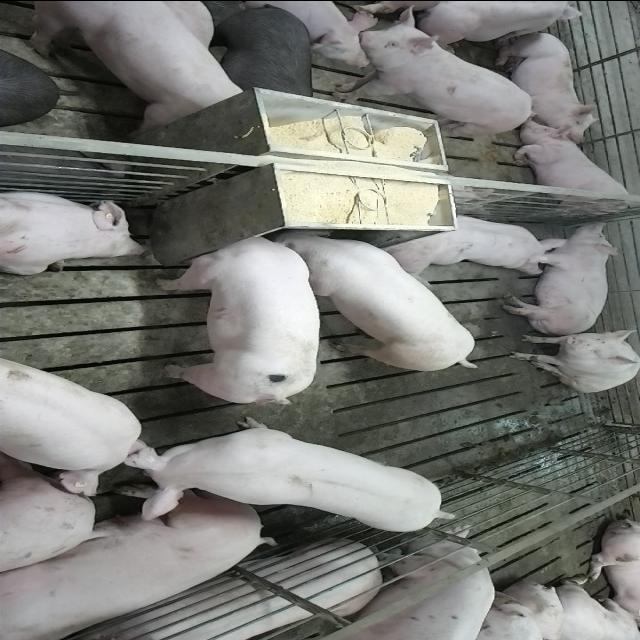Feeding: (278, 229, 480, 377), (155, 224, 322, 398)
Lateral_lying: (0, 478, 272, 636), (500, 220, 623, 336)
Sitting: (508, 124, 640, 214), (506, 329, 638, 391)
Standing: (107, 416, 451, 534), (14, 2, 248, 134), (328, 15, 538, 133), (294, 532, 502, 640), (0, 358, 145, 499), (203, 4, 317, 106)
Sternal_lying: (0, 187, 148, 274), (489, 29, 603, 139), (383, 208, 570, 272)
